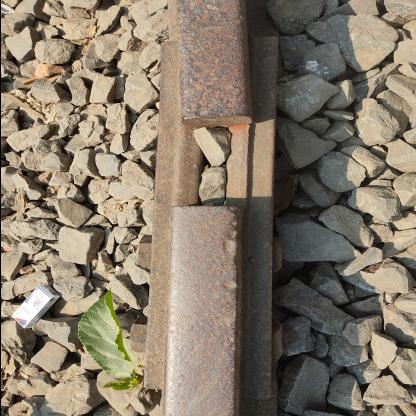Defective 2: (125, 143, 298, 409)
